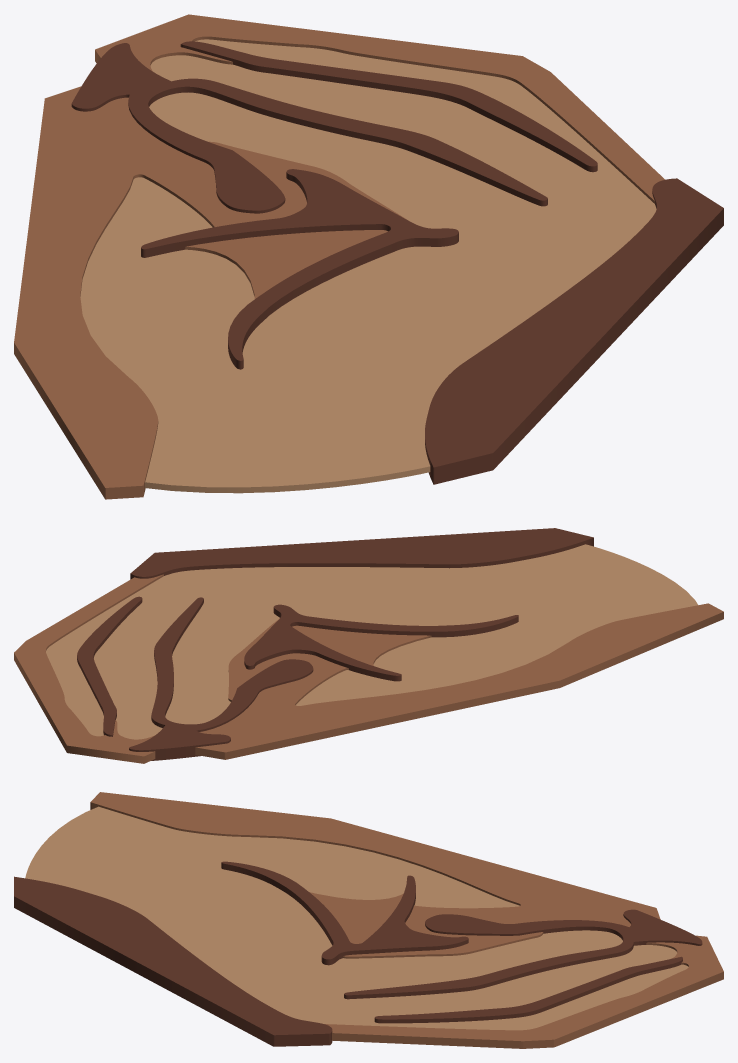
Rendered from emoji_u1f90c_1f3fd.glb.
The picture shows the model from 3 angles, top to bottom: view 1: azimuth 30°, elevation 25°; view 2: azimuth 150°, elevation 25°; view 3: azimuth 270°, elevation 25°; orthographic projection. The views are drawn at different scales.
Visible parts, largest first — view 1: emoji_u1f90c_1f3fd; view 2: emoji_u1f90c_1f3fd; view 3: emoji_u1f90c_1f3fd.
Part boxes in pixels (x1,y1,x2,y2): emoji_u1f90c_1f3fd: (14,14,723,499); emoji_u1f90c_1f3fd: (14,528,723,763); emoji_u1f90c_1f3fd: (14,792,723,1048).
Bounding box in the file's own units: 0.0276 × 0.0008 × 0.0333.
